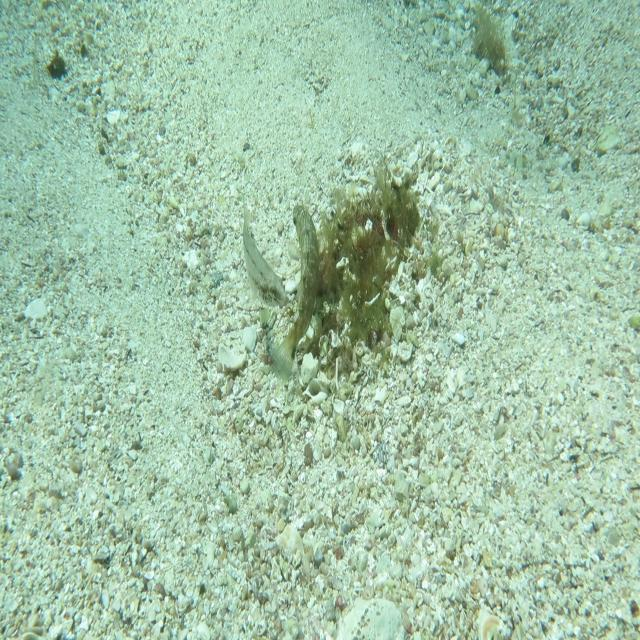BEND: (266, 203, 321, 385)
female: (242, 198, 288, 310)
nest: (304, 150, 428, 371)
